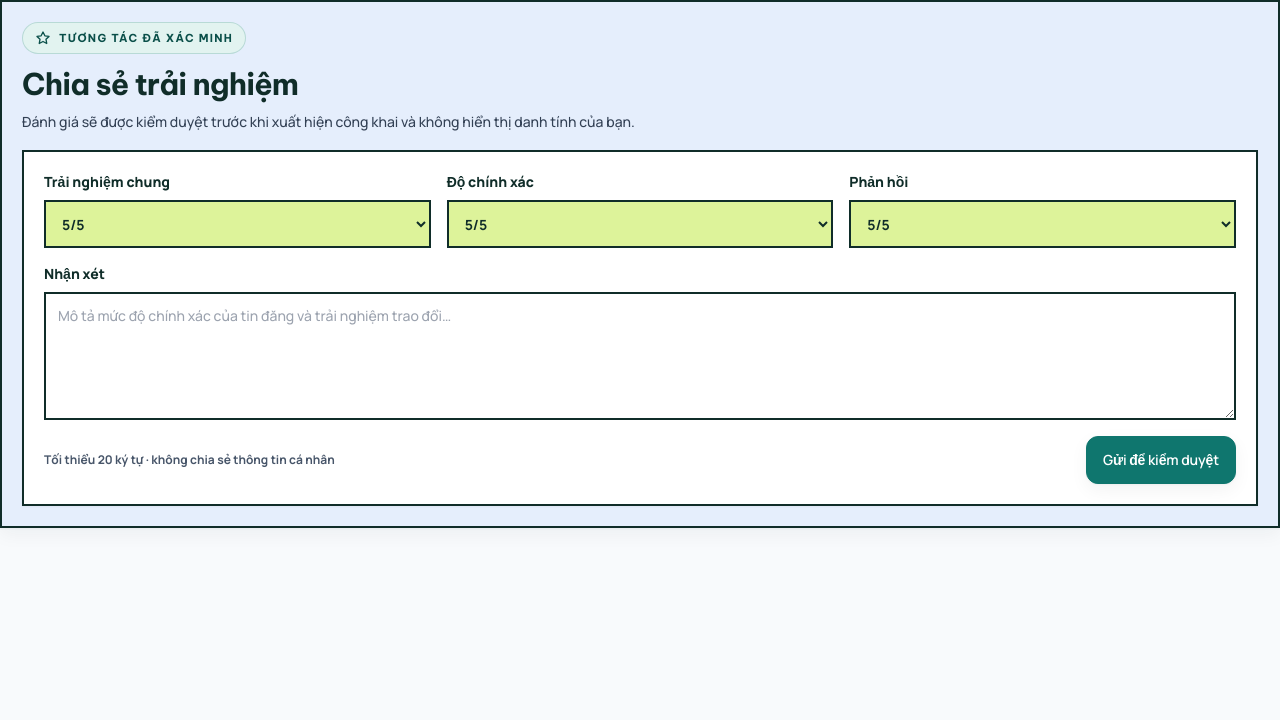
Test: TenantReviewPanel › submits accessible numeric ratings and shows the pending review
The width and height of the screenshot is (1280, 720).
Expected: the dropdown labelled "Trải nghiệm chung" is shown, [44,200,431,248]
Select "4/5" in the dropdown labelled "Độ chính xác" at point(640, 224), box [447,200,833,248]
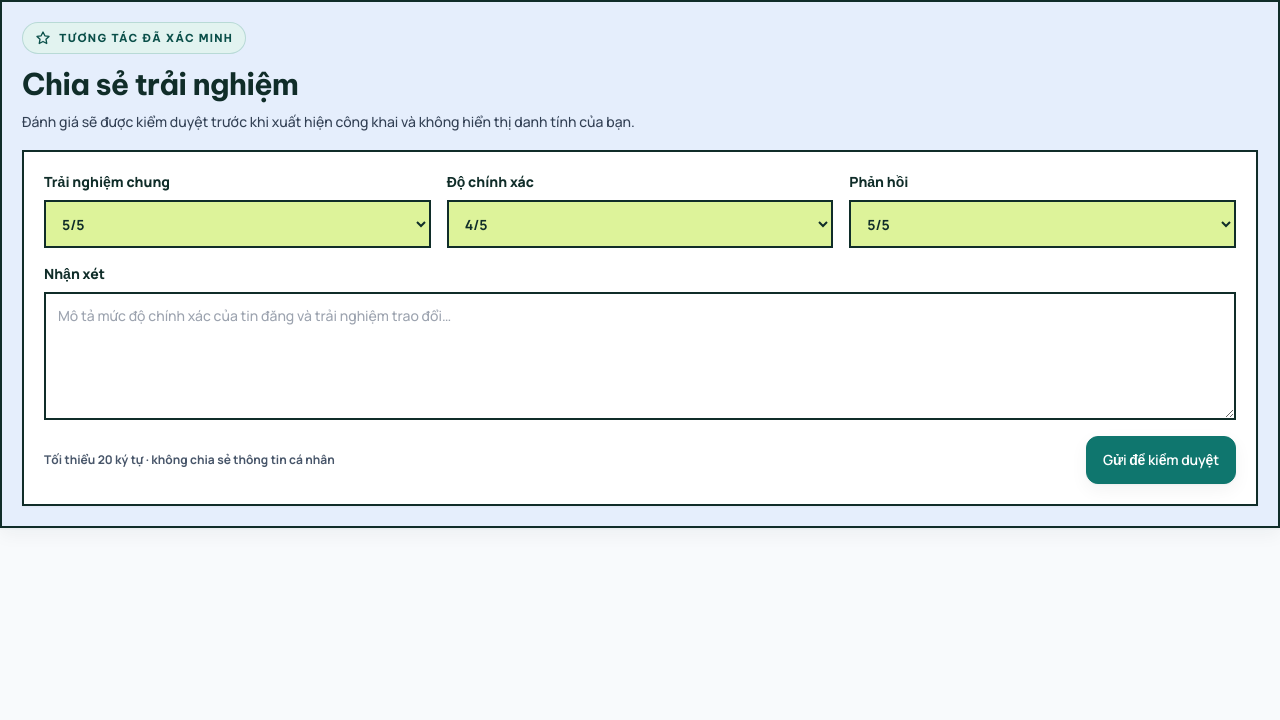
Type "Chủ trọ phản hồi nhanh và thông tin đúng thực tế." into the text box labelled "Nhận xét".
click(640, 356); type("Chủ trọ phản hồi nhanh và thông tin đúng thực tế.")  # box [44,292,1236,420]
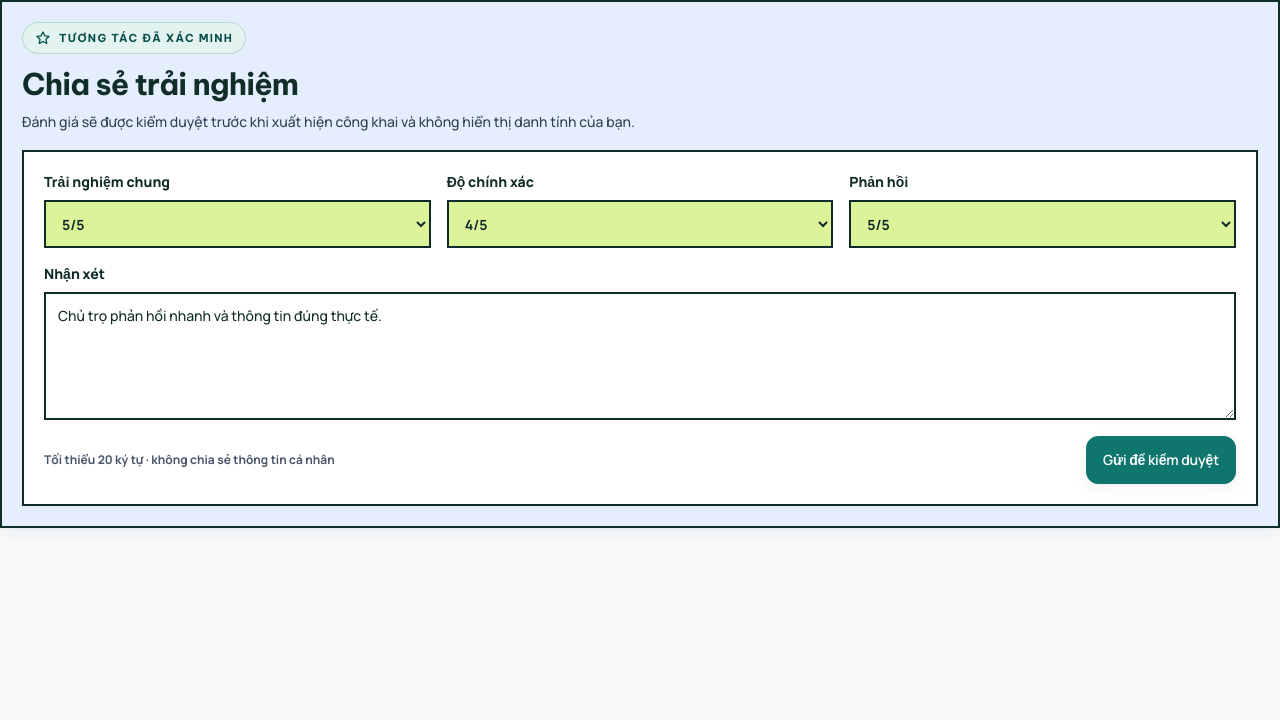
Click the button "Gửi để kiểm duyệt".
click(1161, 460)  # box [1086,436,1236,484]
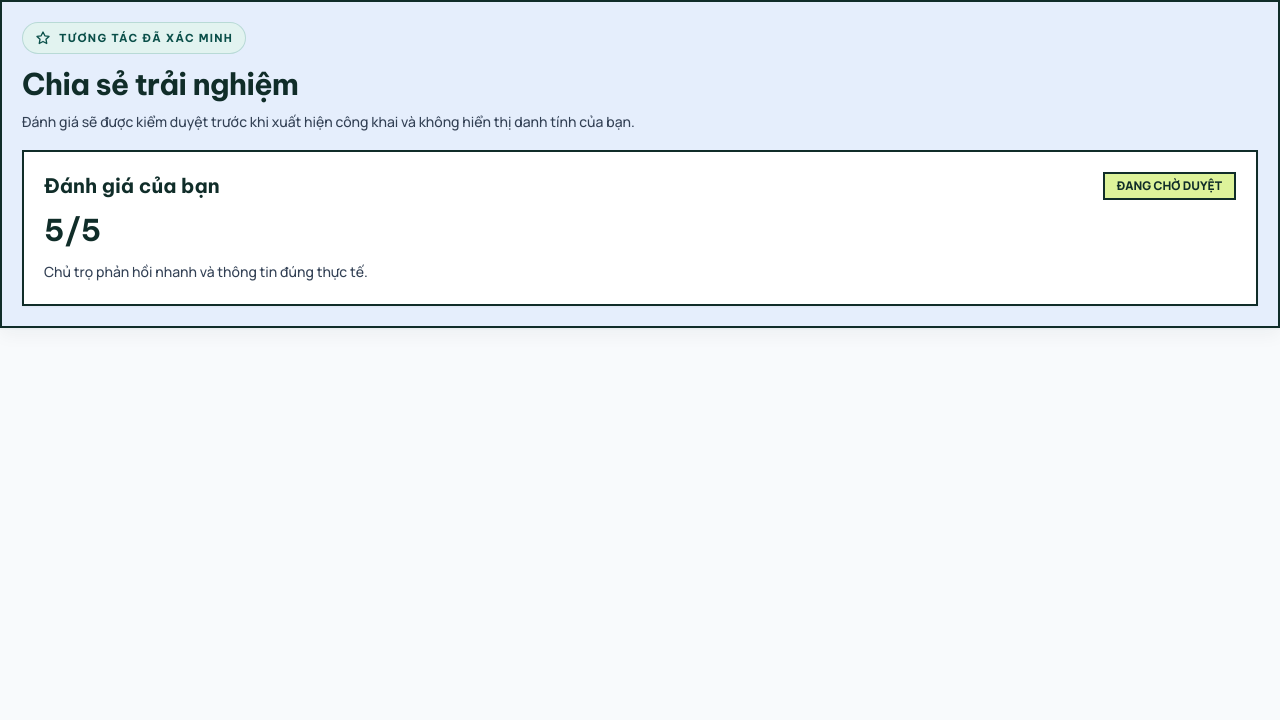
Expected: the text "Đang chờ duyệt" is shown, [1103,172,1236,200]
